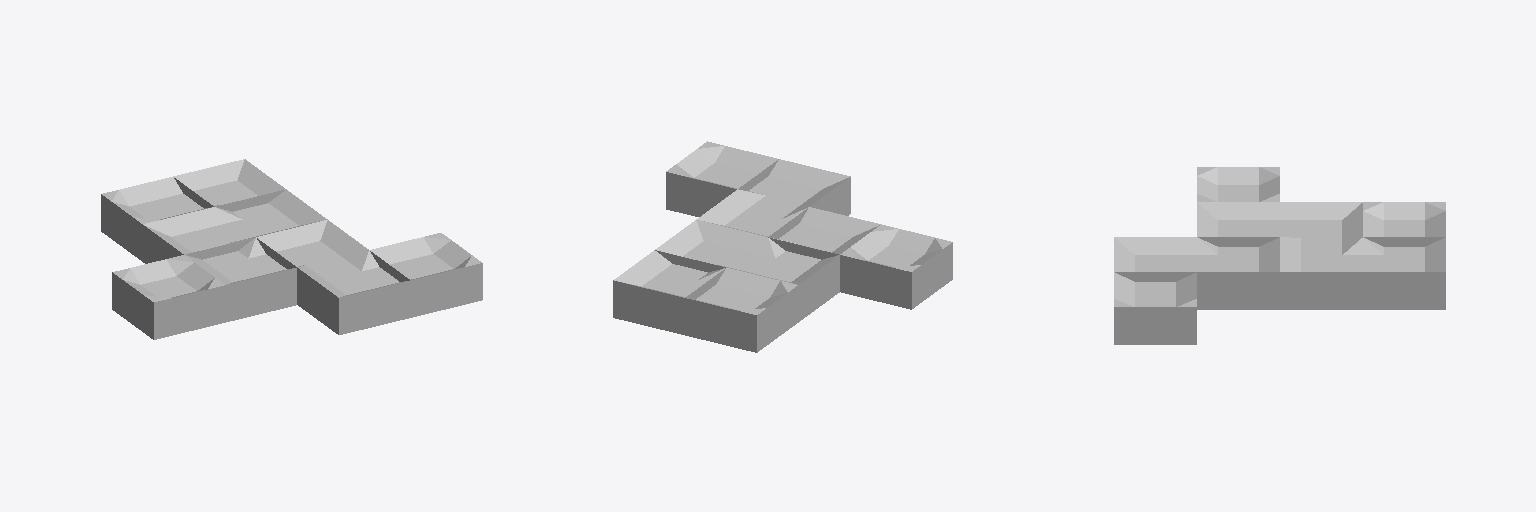
File: 61f_path.obj
3 views of the same model, side by side, from view 1: azimuth 30°, elevation 25°; view 2: azimuth 150°, elevation 25°; view 3: azimuth 270°, elevation 25° (orthographic).
Visible parts, largest first — view 1: foil.hole.1.1_Cube.273, foil.corner.3.0_corner.1346, foil.ending.4.0_ending.544, foil.corner.2.1_corner.1344, foil.ending.2.3_ending.543, foil.corner.2.2_corner.1345, foil.corner.3.1_corner.1347, foil.corner.3.3_corner.1349, foil.corner.3.2_corner.1348; view 2: foil.hole.1.1_Cube.273, foil.ending.2.3_ending.543, foil.corner.3.3_corner.1349, foil.ending.4.0_ending.544, foil.corner.3.0_corner.1346, foil.corner.2.2_corner.1345, foil.corner.3.2_corner.1348, foil.corner.2.1_corner.1344, foil.corner.3.1_corner.1347; view 3: foil.corner.3.3_corner.1349, foil.corner.3.1_corner.1347, foil.corner.3.2_corner.1348, foil.ending.4.0_ending.544, foil.corner.3.0_corner.1346, foil.corner.2.2_corner.1345, foil.corner.2.1_corner.1344, foil.hole.1.1_Cube.273, foil.ending.2.3_ending.543.
Part boxes in pixels (x1,y1,x2,y2): foil.hole.1.1_Cube.273: (112,255,225,339); foil.corner.3.0_corner.1346: (297,250,410,334); foil.ending.4.0_ending.544: (370,233,482,317); foil.corner.2.1_corner.1344: (185,238,296,321); foil.ending.2.3_ending.543: (101,177,211,261); foil.corner.2.2_corner.1345: (143,207,255,263); foil.corner.3.1_corner.1347: (256,220,368,272); foil.corner.3.3_corner.1349: (173,159,285,208); foil.corner.3.2_corner.1348: (215,189,327,238); foil.hole.1.1_Cube.273: (840,224,952,309); foil.ending.2.3_ending.543: (685,268,797,352); foil.corner.3.3_corner.1349: (613,250,725,334); foil.ending.4.0_ending.544: (666,141,777,216); foil.corner.3.0_corner.1346: (738,159,850,215); foil.corner.2.2_corner.1345: (730,237,839,322); foil.corner.3.2_corner.1348: (655,220,767,272); foil.corner.2.1_corner.1344: (769,207,880,254); foil.corner.3.1_corner.1347: (696,189,808,238); foil.corner.3.3_corner.1349: (1363,237,1445,309); foil.corner.3.1_corner.1347: (1197,237,1279,309); foil.corner.3.2_corner.1348: (1280,237,1362,309); foil.ending.4.0_ending.544: (1114,272,1196,344); foil.corner.3.0_corner.1346: (1114,237,1196,281); foil.corner.2.2_corner.1345: (1280,202,1362,246); foil.corner.2.1_corner.1344: (1197,202,1279,246); foil.hole.1.1_Cube.273: (1197,167,1279,201); foil.ending.2.3_ending.543: (1363,202,1445,236).
Size of the model in its own units: 8 by 1 by 8.